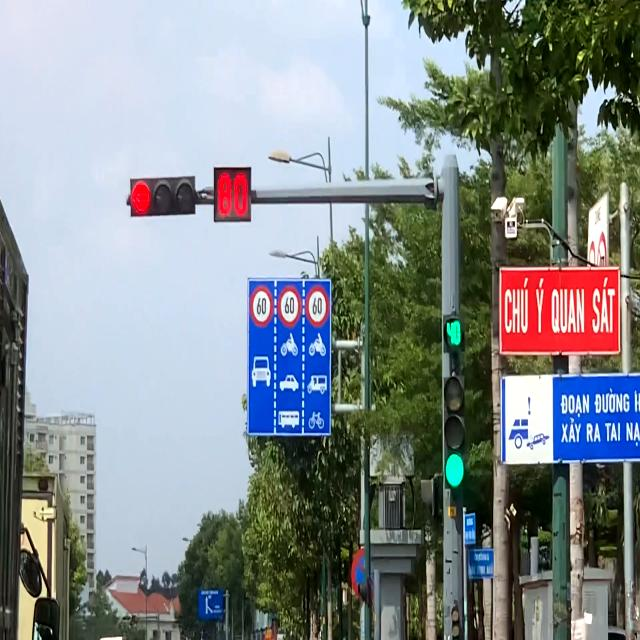P.127: (250, 284, 273, 328), (278, 286, 302, 328), (306, 285, 329, 326)
